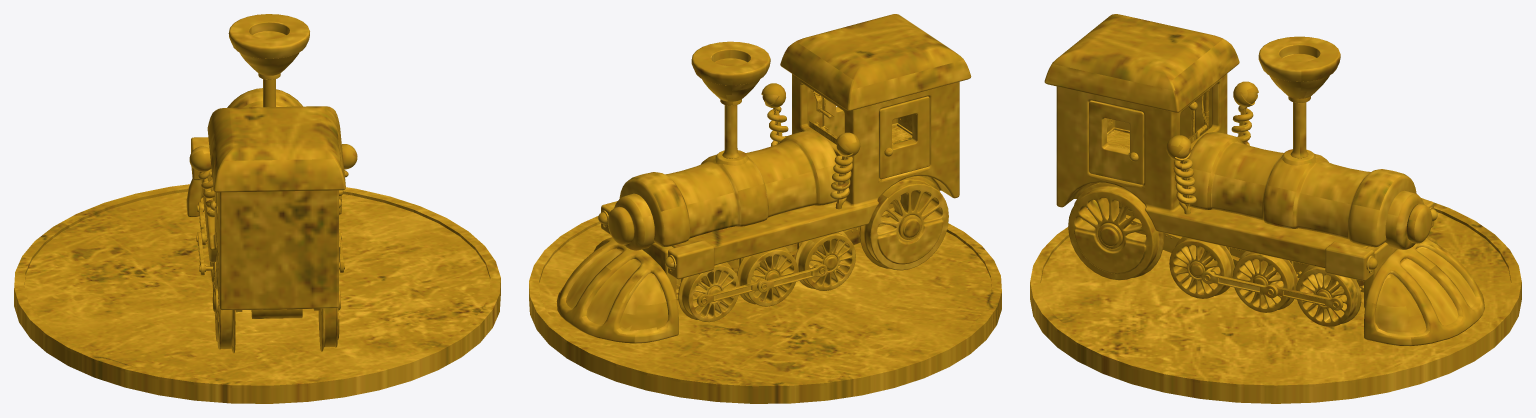
The model's file is poppy_playtime__trophy_-_train.glb.
The picture shows the model from 3 angles, left to right: view 1: azimuth 30°, elevation 25°; view 2: azimuth 150°, elevation 25°; view 3: azimuth 270°, elevation 25°; orthographic projection. The views are drawn at different scales.
Parts seen in each view (by area): view 1: trophy_train; view 2: trophy_train; view 3: trophy_train.
Boxes of the visible parts, x1,y1,x2,y2 form: trophy_train: (14,14,500,403); trophy_train: (529,14,1001,403); trophy_train: (1030,14,1521,403).
Bounding box in the file's own units: 0.5677 × 0.3296 × 0.5677.
Materials: 2 (2 with a texture image).
